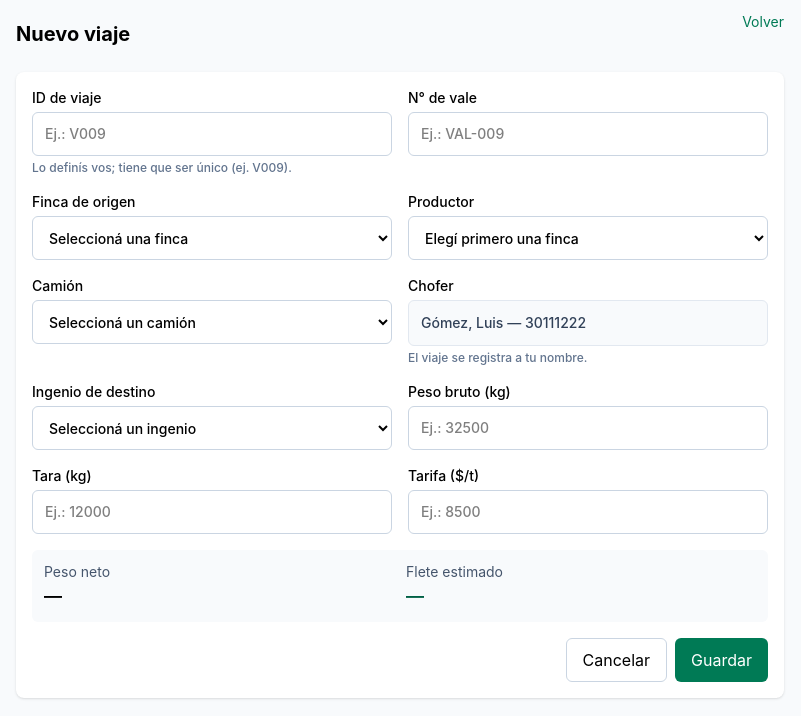
it: ViajeForm › en modo chofer muestra el chofer fijo y calcula neto y flete en vivo
The width and height of the screenshot is (801, 716).
Expected: the text "Gómez, Luis — 30111222" is shown, 408,300 -> 768,346
Type "30000" into the field labelled "Peso bruto (kg)". click: (588, 428)
box: 408,406 -> 768,450
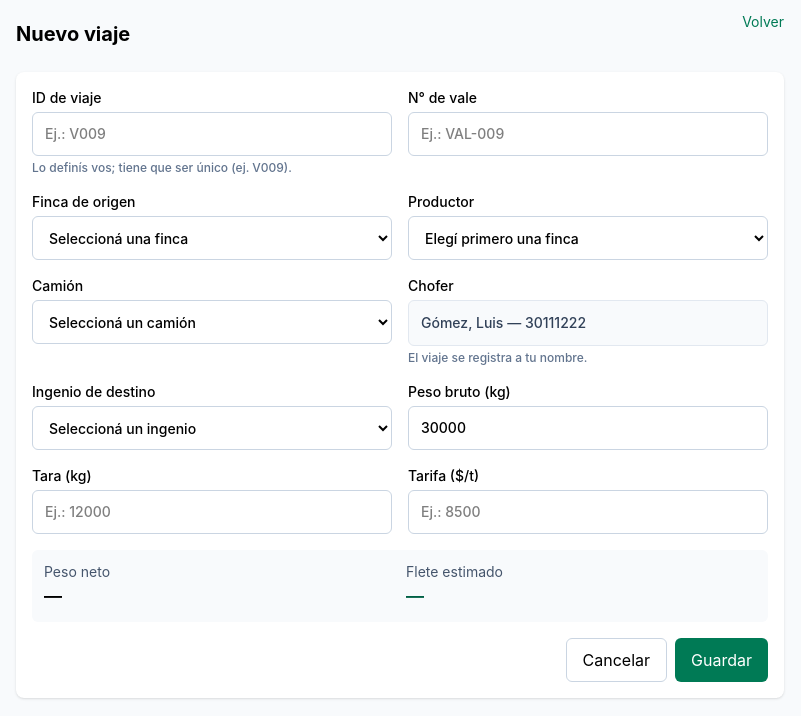
Type "10000" into the field labelled "Tara (kg)". click: (212, 512)
box: 32,490 -> 392,534
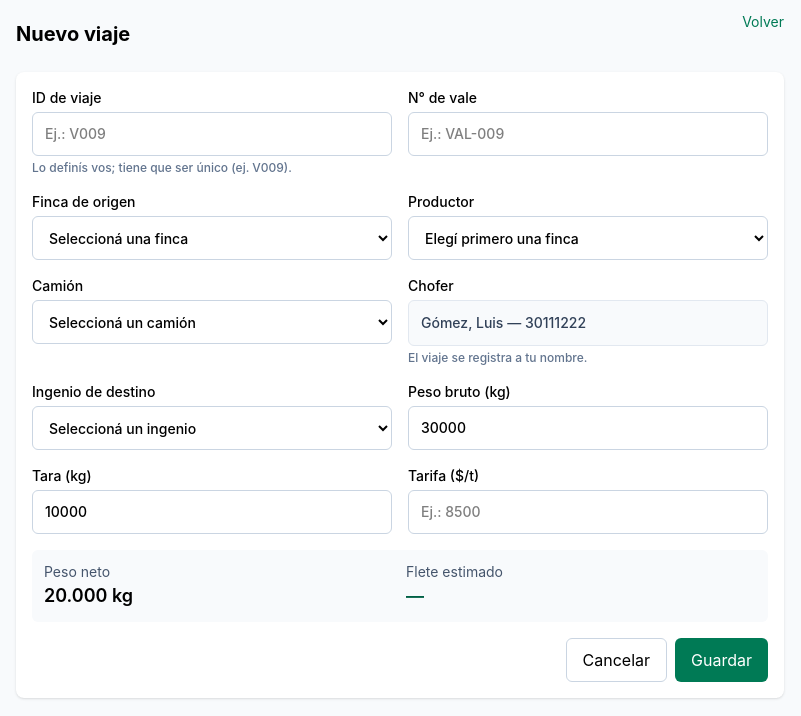
Type "8000" into the field labelled "Tarifa ($/t)". click: (588, 512)
box: 408,490 -> 768,534
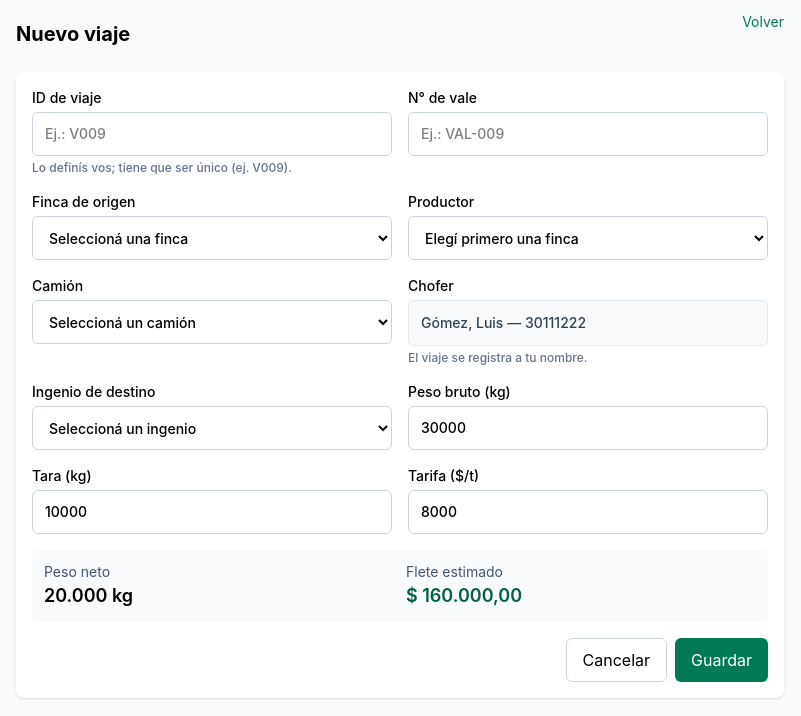
Expected: the text "20.000 kg" is shown, 44,585 -> 133,606
Expected: the text "$ 160.000,00" is shown, 406,585 -> 522,606
